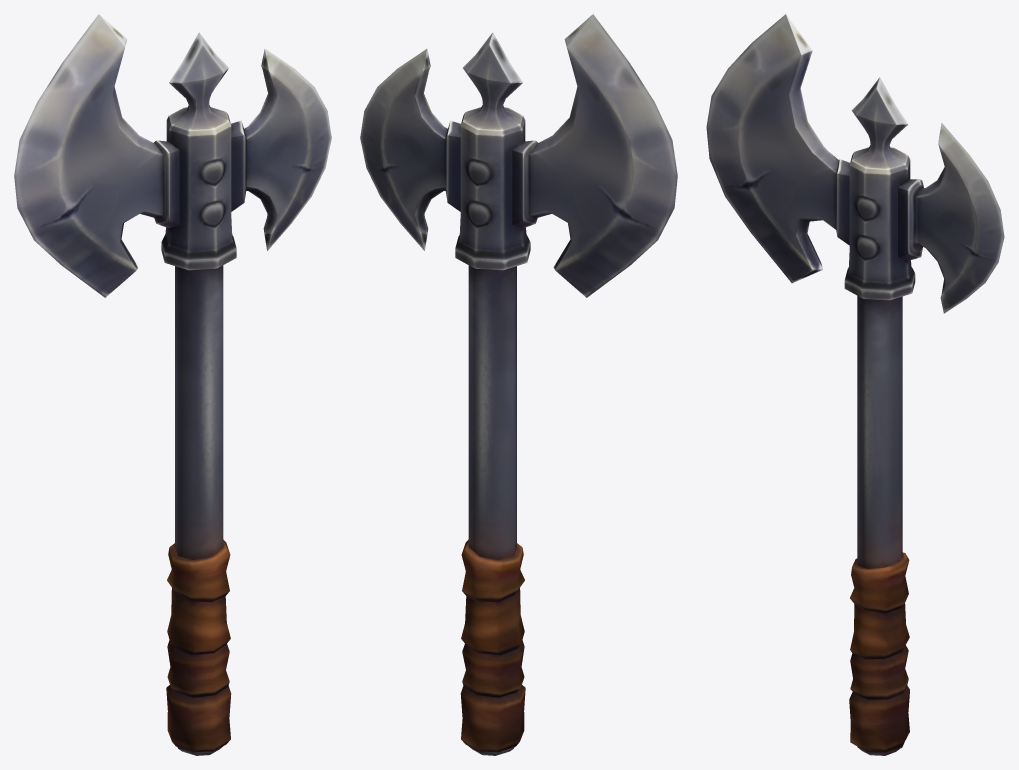
File: 001_a_battle_axe.fbx
3 renders of one model, left to right at view 1: azimuth 30°, elevation 25°; view 2: azimuth 150°, elevation 25°; view 3: azimuth 330°, elevation 25°, orthographic. The views are drawn at different scales.
Parts seen in each view (by area): view 1: 001_a_battle_axe; view 2: 001_a_battle_axe; view 3: 001_a_battle_axe.
Part boxes in pixels (x1,y1,x2,y2): 001_a_battle_axe: [14, 14, 331, 755]; 001_a_battle_axe: [360, 14, 677, 755]; 001_a_battle_axe: [706, 14, 1004, 755].
Bounding box in the file's own units: 32.31 × 73.66 × 6.61.
